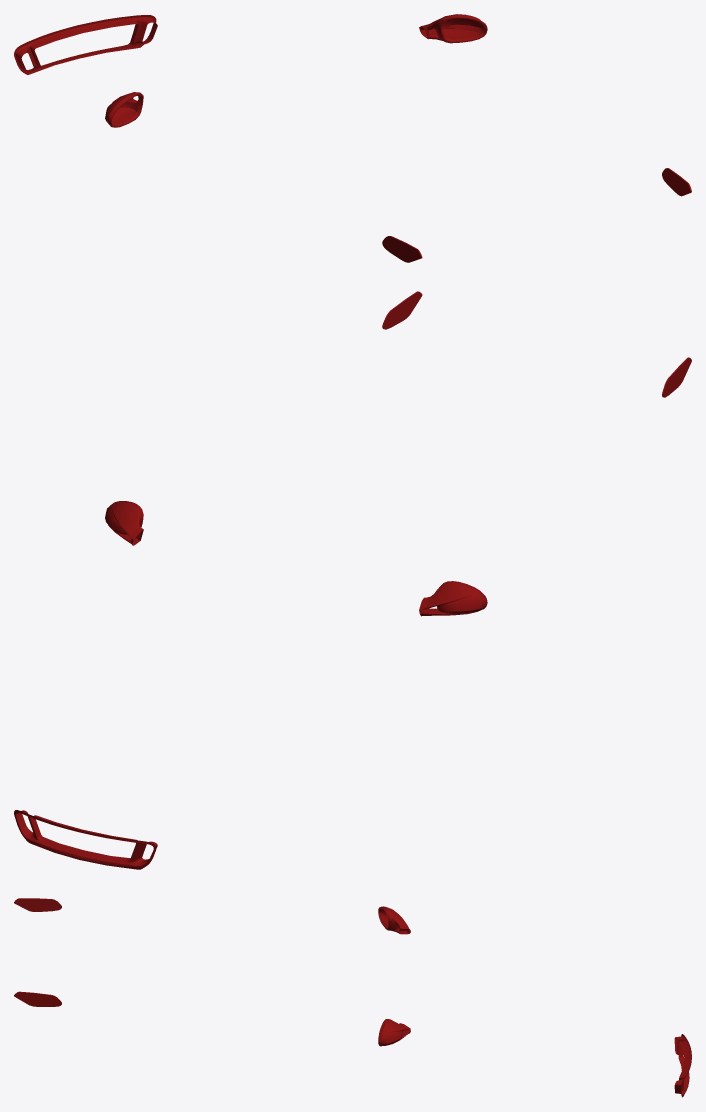
File: Red_Parts.fbx
3 views of the same model, one above another, from view 1: azimuth 30°, elevation 25°; view 2: azimuth 150°, elevation 25°; view 3: azimuth 270°, elevation 25° (orthographic). The views are drawn at different scales.
Visible parts, largest first — view 1: Red_Parts; view 2: Red_Parts; view 3: Red_Parts.
Boxes of the visible parts, box(x1,y1,x2,y2) form: Red_Parts: box(14, 14, 691, 262); Red_Parts: box(14, 291, 691, 869); Red_Parts: box(14, 898, 691, 1097).
Size of the model in its own units: 201 by 95.71 by 440.
